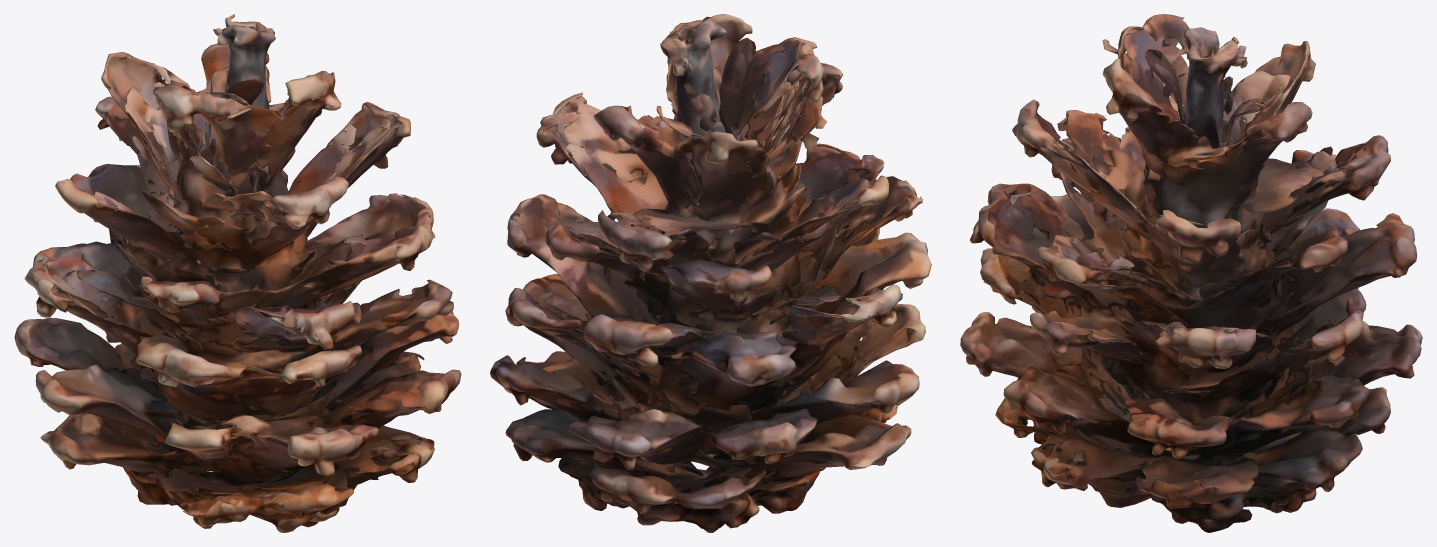
The model's file is nature-pinecone.glb.
The picture shows the model from 3 angles, left to right: view 1: azimuth 30°, elevation 25°; view 2: azimuth 150°, elevation 25°; view 3: azimuth 270°, elevation 25°; orthographic projection. The views are drawn at different scales.
Visible parts, largest first — view 1: tripo_node_c8e36957-67af-447e-8273-74920f179895; view 2: tripo_node_c8e36957-67af-447e-8273-74920f179895; view 3: tripo_node_c8e36957-67af-447e-8273-74920f179895.
Part boxes in pixels (<box>): tripo_node_c8e36957-67af-447e-8273-74920f179895: <box>14,14,461,532</box>; tripo_node_c8e36957-67af-447e-8273-74920f179895: <box>490,14,931,532</box>; tripo_node_c8e36957-67af-447e-8273-74920f179895: <box>960,14,1422,532</box>.
Size of the model in its own units: 0.2603 by 0.3 by 0.2668.
1 material, 1 textured.
